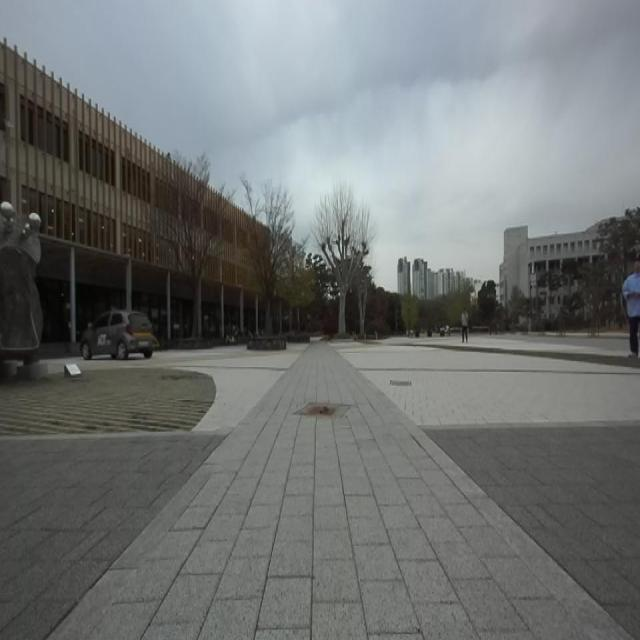sidewalk: (52, 344, 628, 639)
